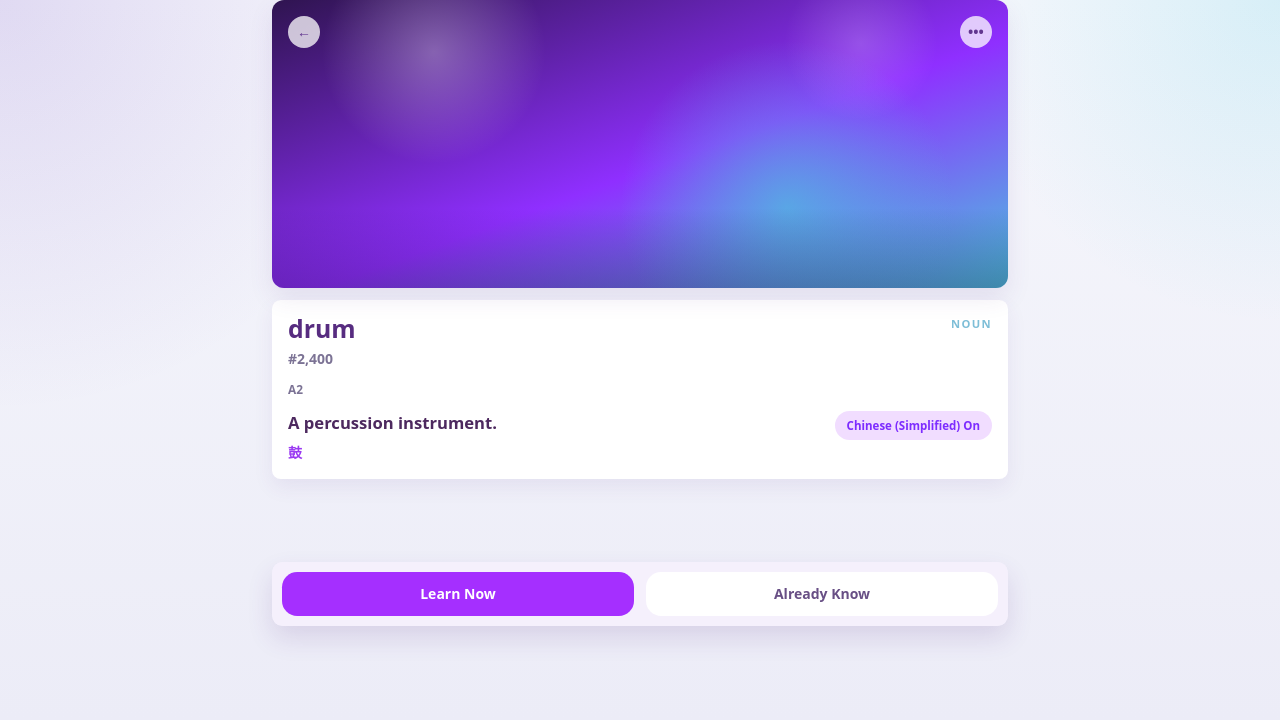
Test: KnowledgeEntryDetailPage › shows an inline error when Learn Now fails
The image size is (1280, 720).
Click the button "Learn Now". click: (458, 594)
box: [282, 572, 634, 616]
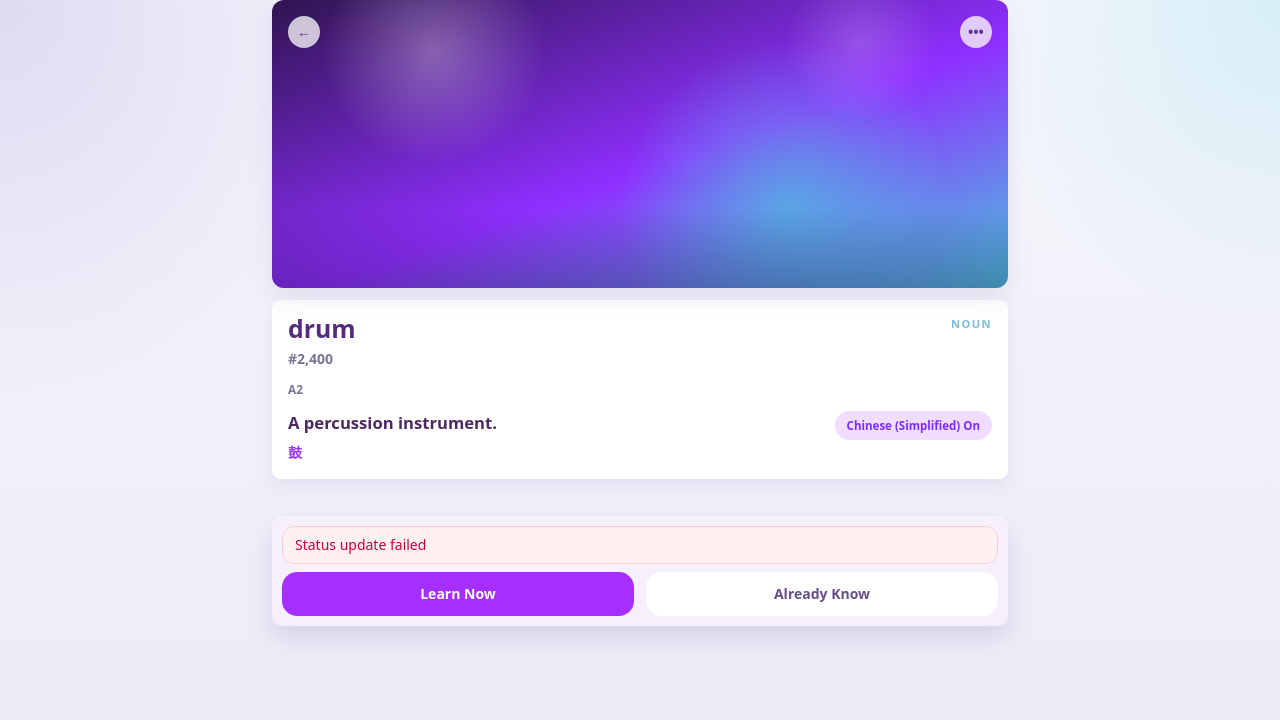
Check: the message reads "Status update failed", box [295, 535, 426, 554]
